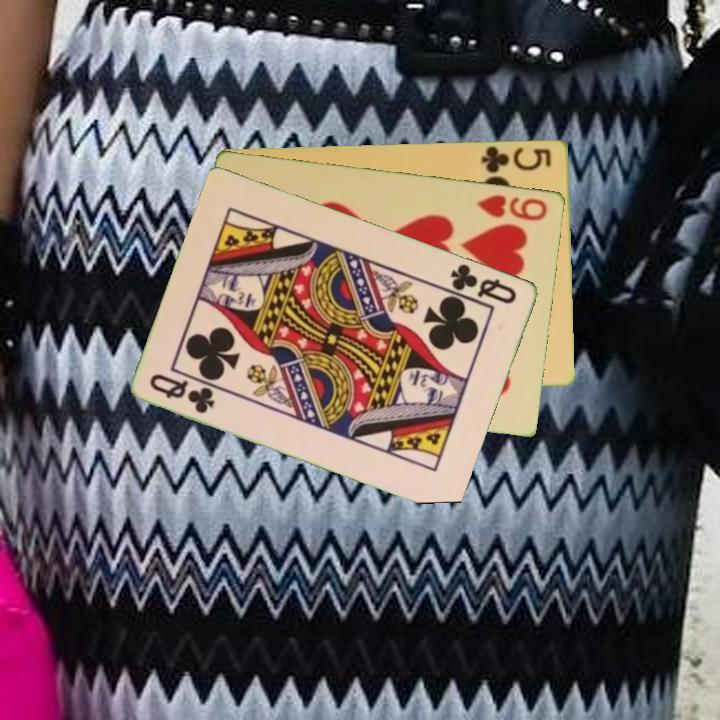5c: (478, 143, 555, 175)
9h: (473, 190, 551, 223)
Qc: (447, 260, 520, 307), (146, 370, 218, 416)
